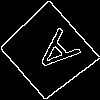A: (24, 26, 82, 83)
